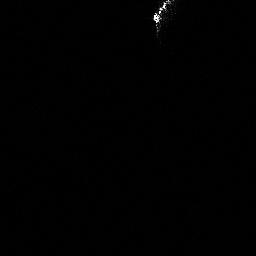ship: (150, 1, 174, 31)
